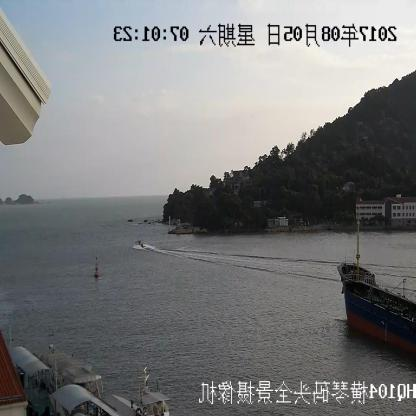Bulk Carrier: (340, 209, 415, 361)
